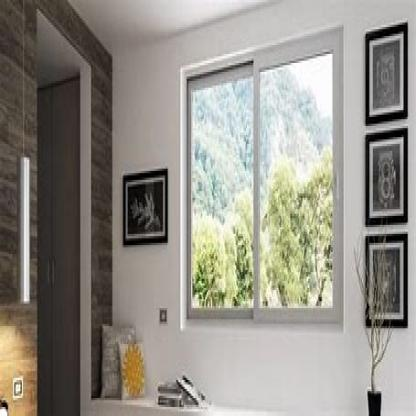Window: (187, 27, 344, 335)
